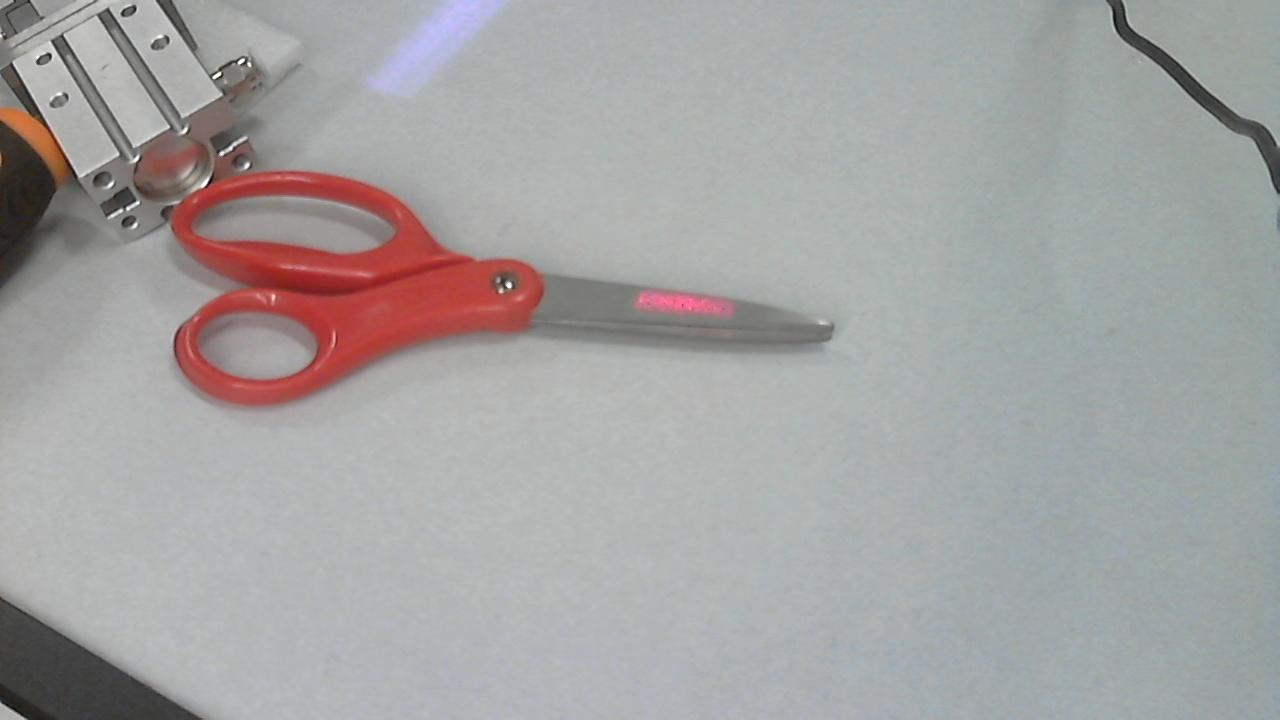Object scissors - Material metal - Pdfname tYexGlkiIXWc: (597, 258, 773, 327)
